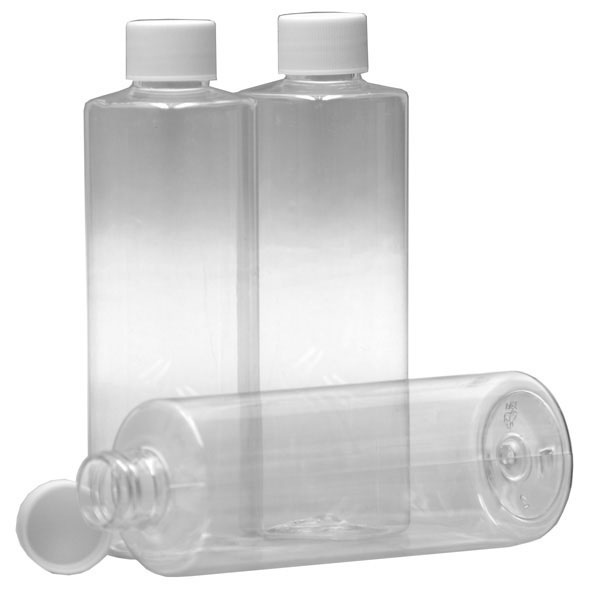emptybottle: (82, 371, 572, 576), (79, 19, 260, 560), (247, 11, 410, 544)
